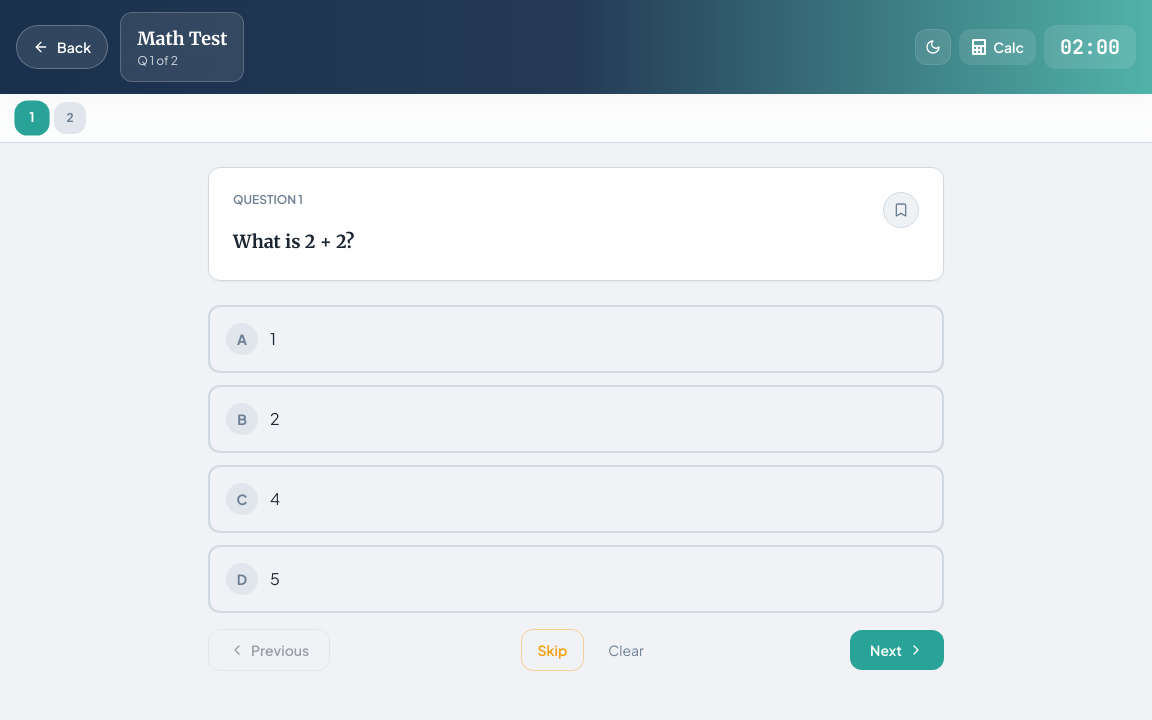
TestPage › selects an option and shows correct feedback
The width and height of the screenshot is (1152, 720).
Click the text "C". click: (242,499)
box: [226,483,258,515]
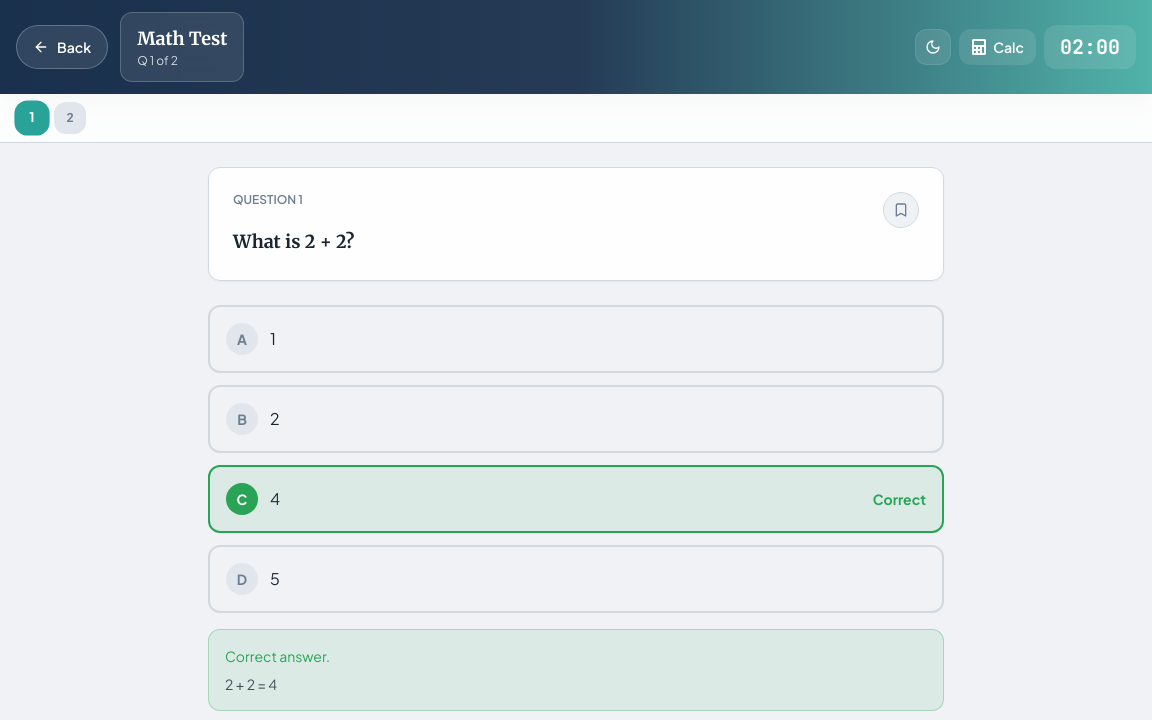
Result: the text "Correct answer. 2 + 2 = 4" is shown at [208,629,944,711]
